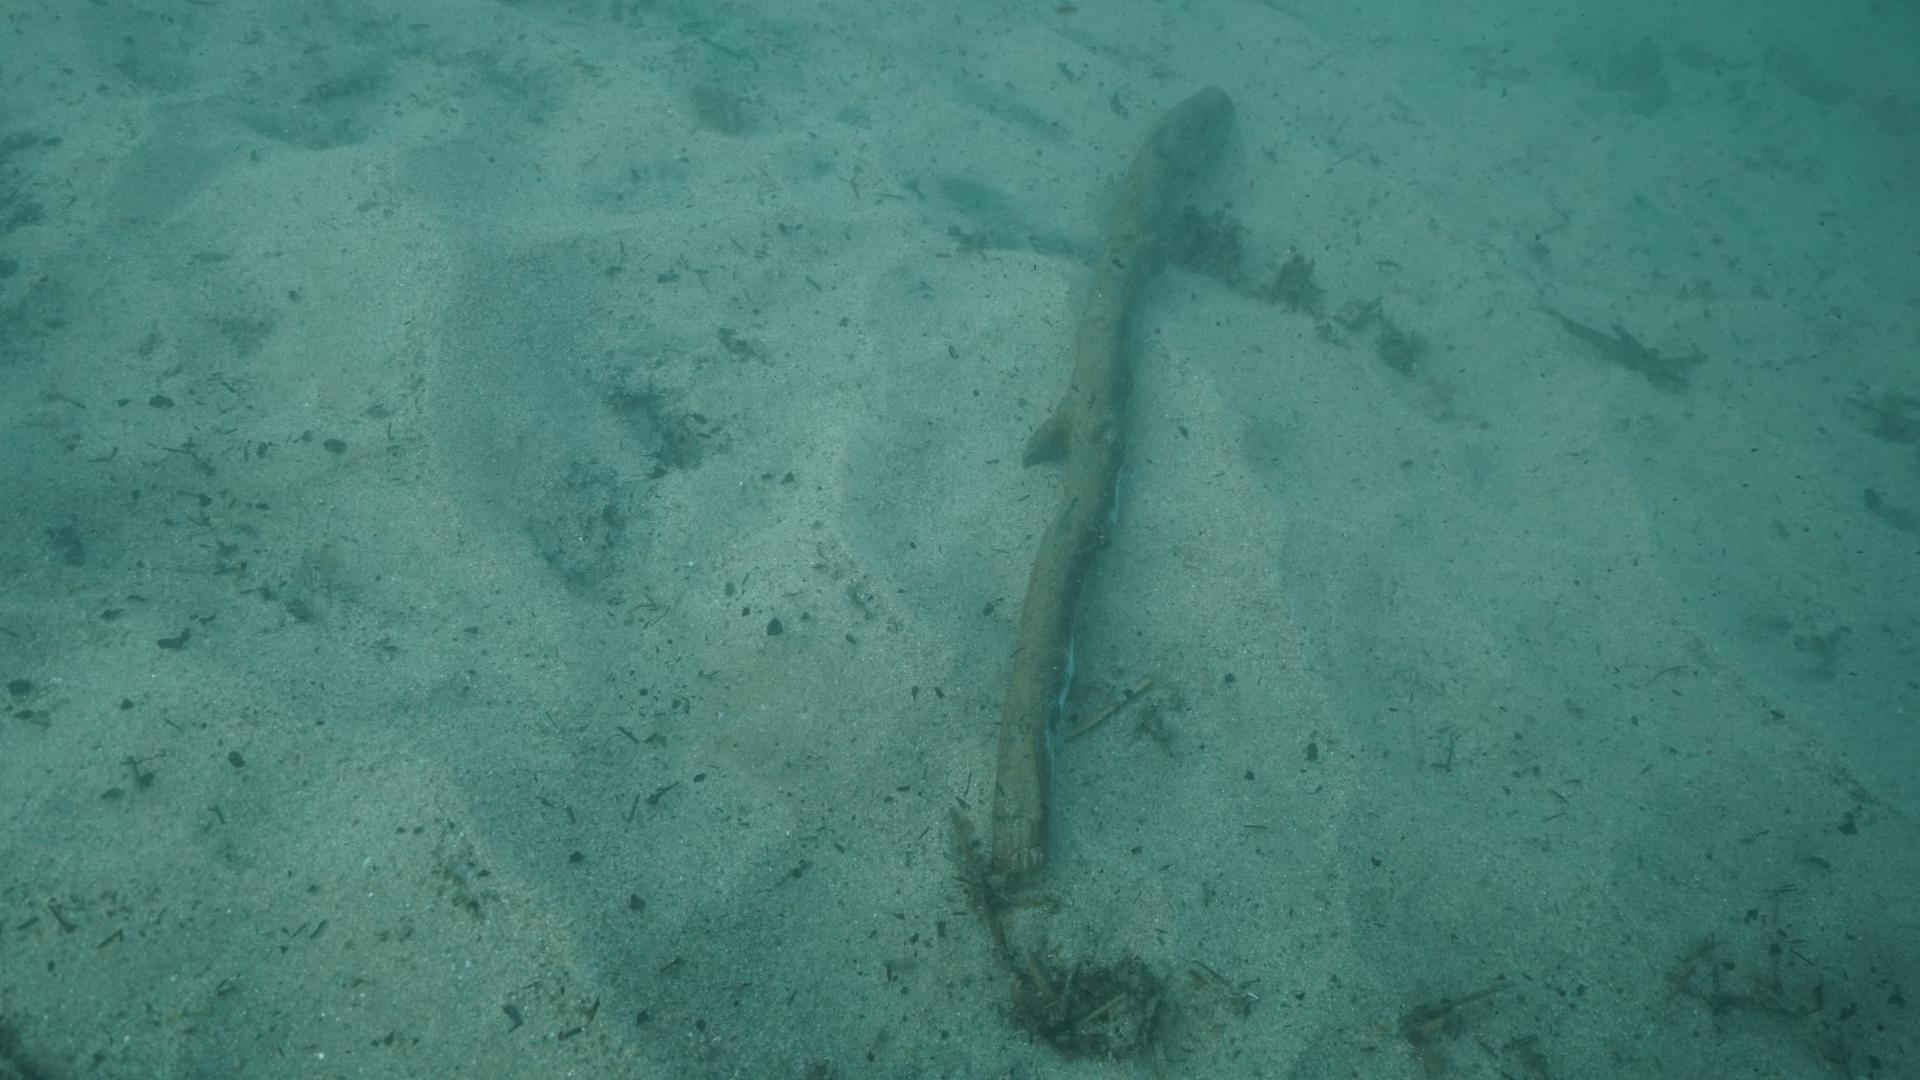wood: (986, 84, 1233, 886)
